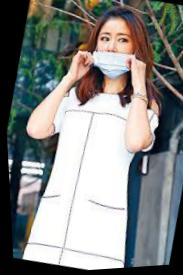WRONG: (86, 20, 149, 87)
